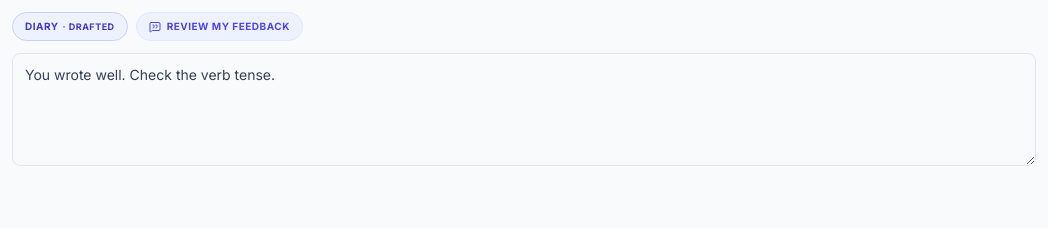
it: fixable server error codes offer the action › identity_not_bound shows a button that calls the handler with retry_binding
The image size is (1048, 228).
Later steps or results of the test are not shown.
What coordinates should you click on to do the following:
click the button "Review my feedback"
I would click on:
 (219, 26)
Its box is [136, 12, 303, 41].
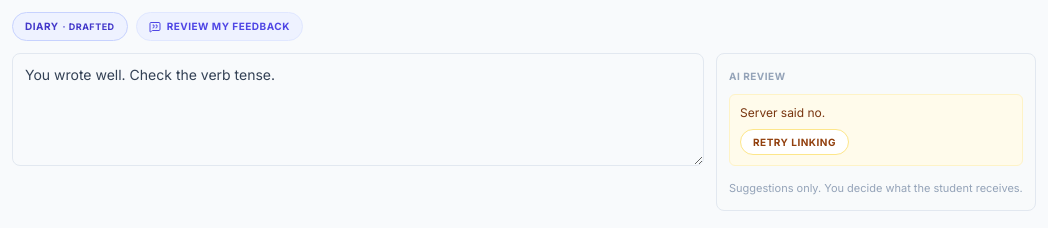
Expected: the text "Server said no." is shown, [740, 105, 825, 120]
Expected: the button "Retry linking" is shown, [740, 129, 849, 155]
